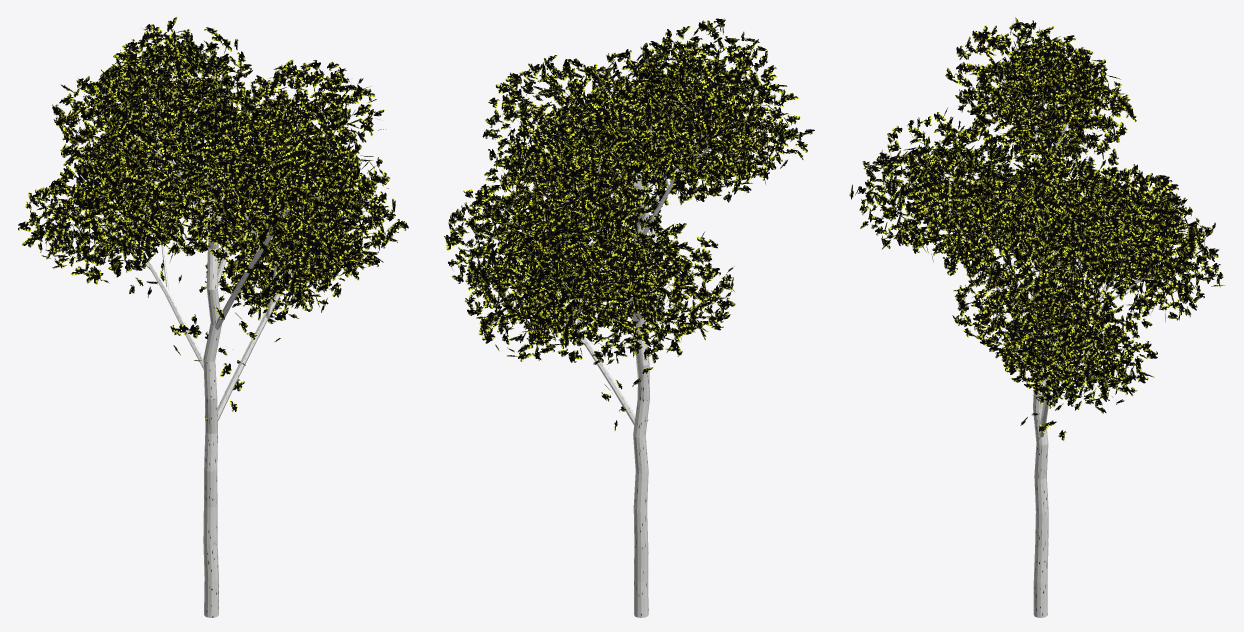
Rendered from birch_pale_v01.fbx.
The picture shows the model from 3 angles, left to right: view 1: azimuth 30°, elevation 25°; view 2: azimuth 150°, elevation 25°; view 3: azimuth 270°, elevation 25°; orthographic projection. The views are drawn at different scales.
Visible parts, largest first — view 1: birch_pale_v01; view 2: birch_pale_v01; view 3: birch_pale_v01.
Boxes of the visible parts, x1,y1,x2,y2 form: birch_pale_v01: [18, 16, 408, 617]; birch_pale_v01: [444, 18, 814, 617]; birch_pale_v01: [849, 17, 1225, 617].
Size of the model in its own units: 912 by 921 by 1529.
2 materials, 2 textured.
